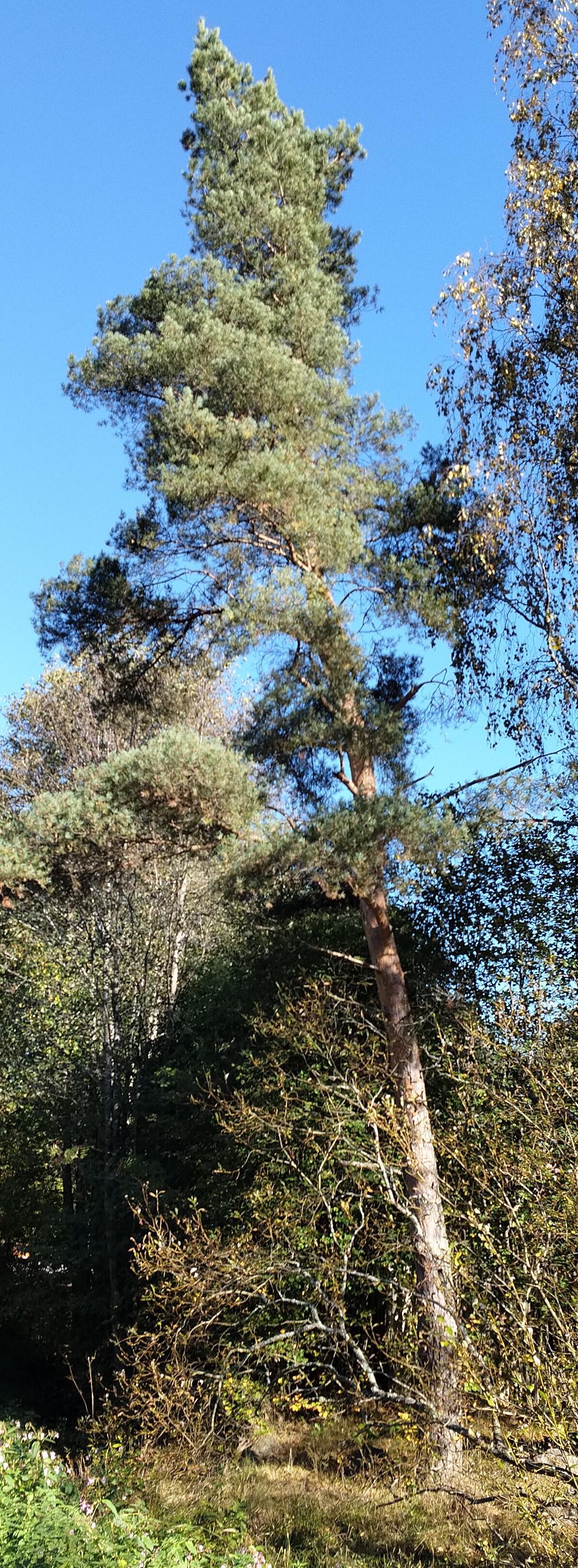Pine: (104, 6, 486, 1492)
